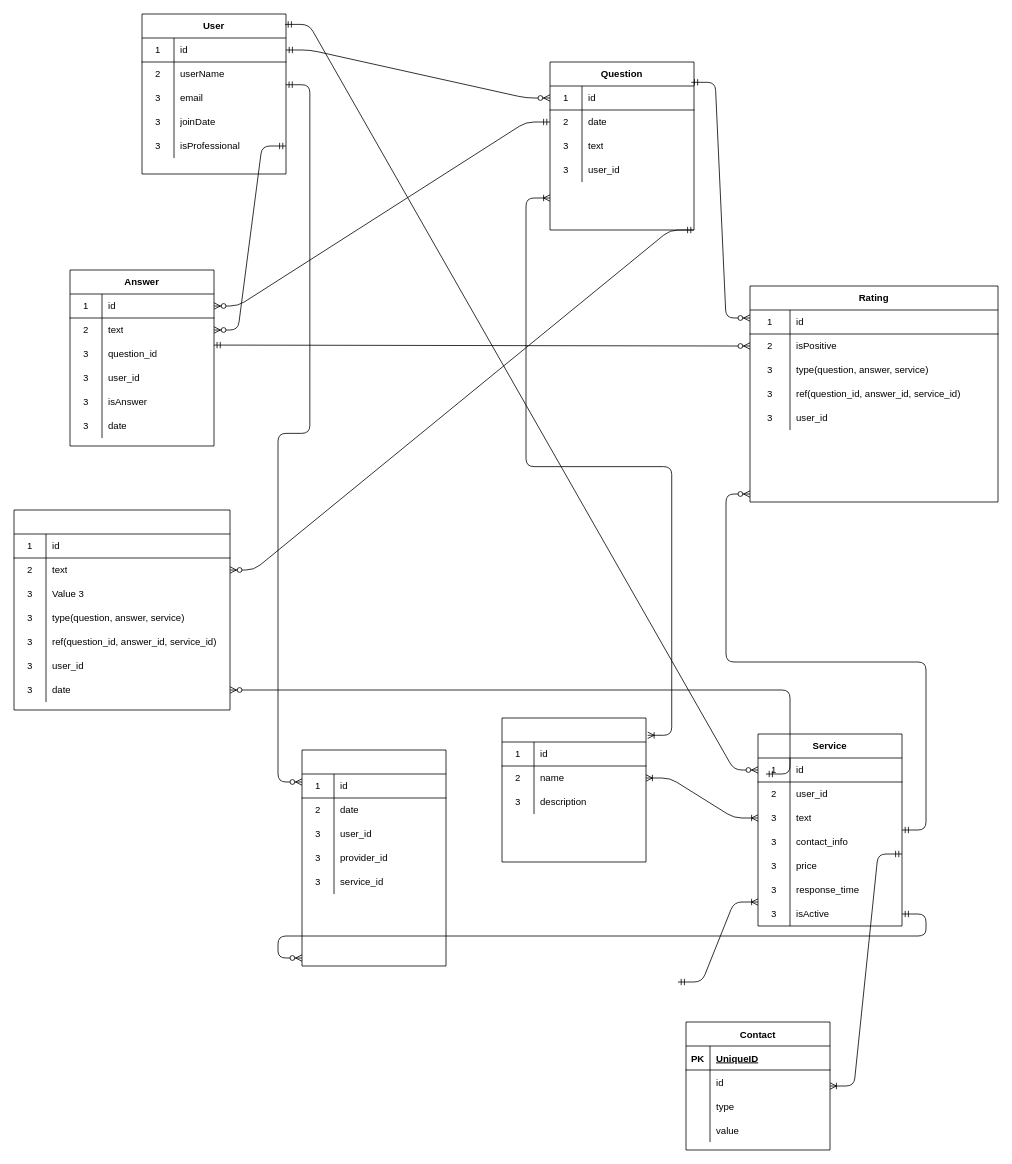
Some shapes in this 1012 by 1164 pixel diagram are drawn without their labels. Each missing label, with the box of its shape:
Comment: (13, 509, 230, 710)
Purchase: (301, 749, 446, 966)
Tag: (501, 717, 646, 862)
